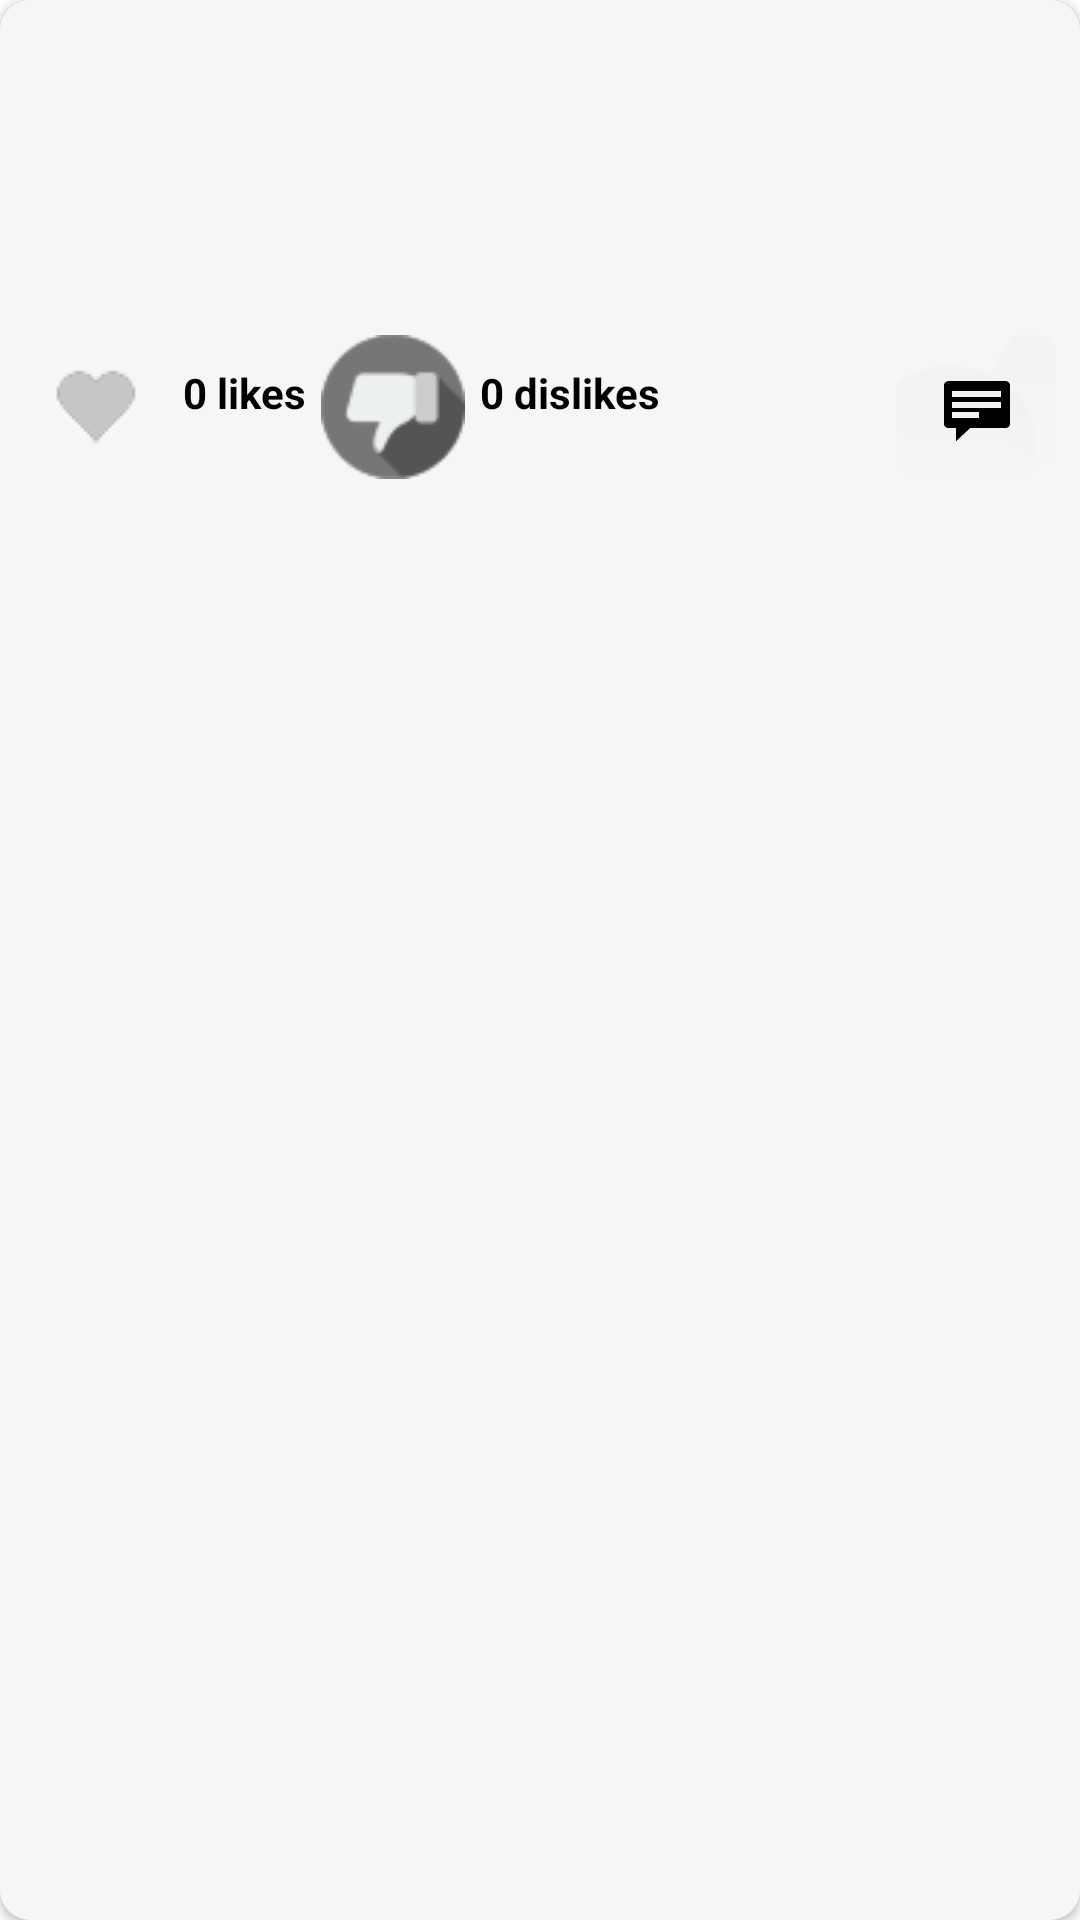

Icons on this 1080×1920 Android screen, each with the point to tap as (x,y):
like button: (96,406)
